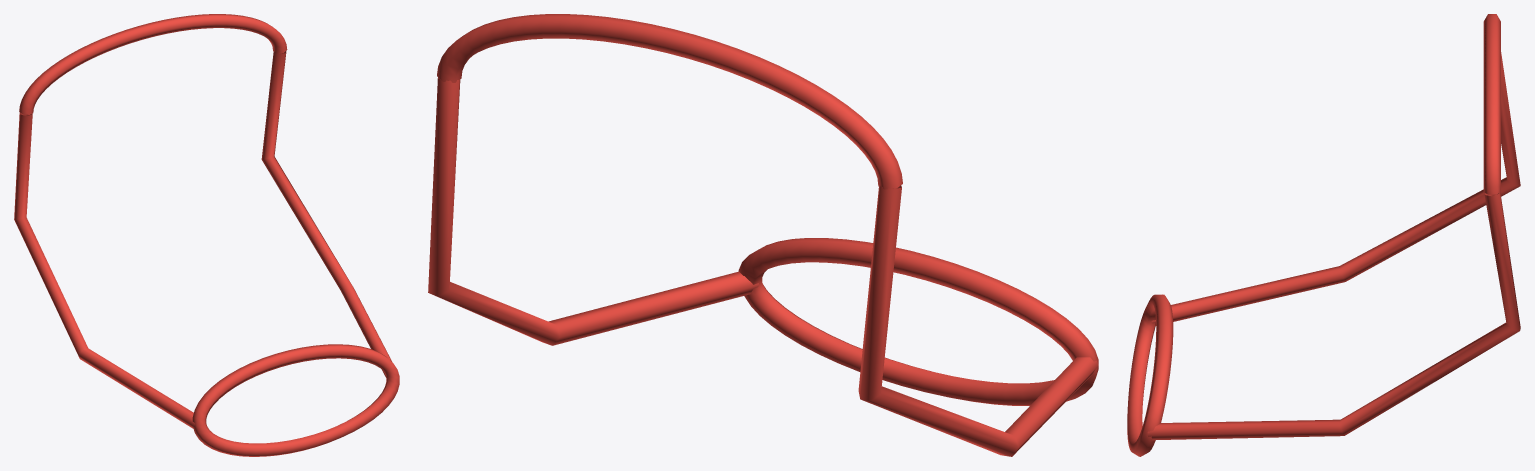
The picture shows the model from 3 angles, left to right: view 1: azimuth 30°, elevation 25°; view 2: azimuth 150°, elevation 25°; view 3: azimuth 270°, elevation 25°; orthographic projection. The views are drawn at different scales.
Visible parts, largest first — view 1: noseband, cheek strap, poll strap, cheek strap.001; view 2: noseband, poll strap, cheek strap.001, cheek strap; view 3: cheek strap.001, cheek strap, noseband, poll strap.
Part boxes in pixels (x1,y1,x2,y2): noseband: [192, 344, 399, 456]; cheek strap: [14, 112, 195, 428]; poll strap: [19, 14, 287, 114]; cheek strap.001: [261, 50, 391, 377]; noseband: [738, 238, 1098, 405]; poll strap: [437, 14, 902, 189]; cheek strap.001: [428, 77, 759, 345]; cheek strap: [858, 185, 1098, 456]; cheek strap.001: [1147, 192, 1520, 440]; cheek strap: [1151, 52, 1520, 325]; noseband: [1127, 294, 1173, 456]; poll strap: [1483, 14, 1500, 194].
Size of the model in its own units: 0.3559 by 0.3919 by 0.3677.
